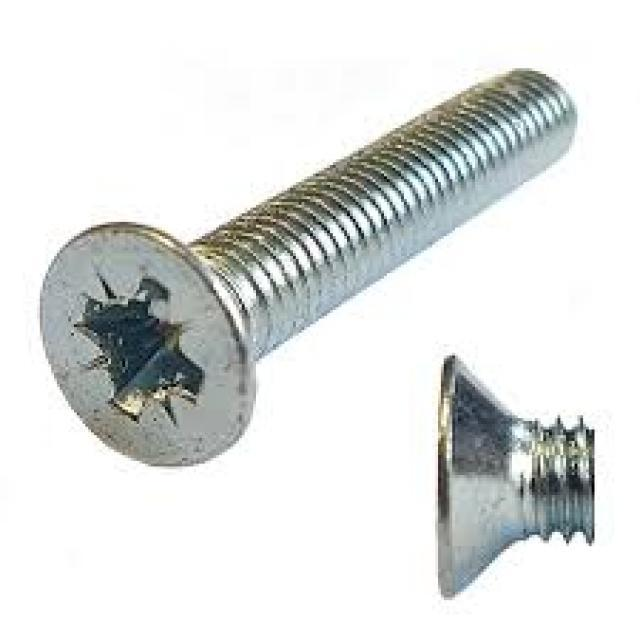Screw: (37, 68, 580, 469), (435, 356, 597, 603)
